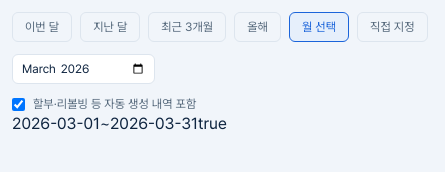
Test: E. 월 선택 (#484) › E-6. 달을 고르면 그 달 전체가 되고 주소에 실린다
Replace the text in the field named "조회할 달" with "2026-02": (84, 69) [12,54,155,84]
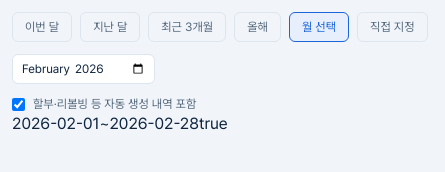
Expected: the text with test id "range" reads "2026-02-01~2026-02-28", [12,114,199,133]
